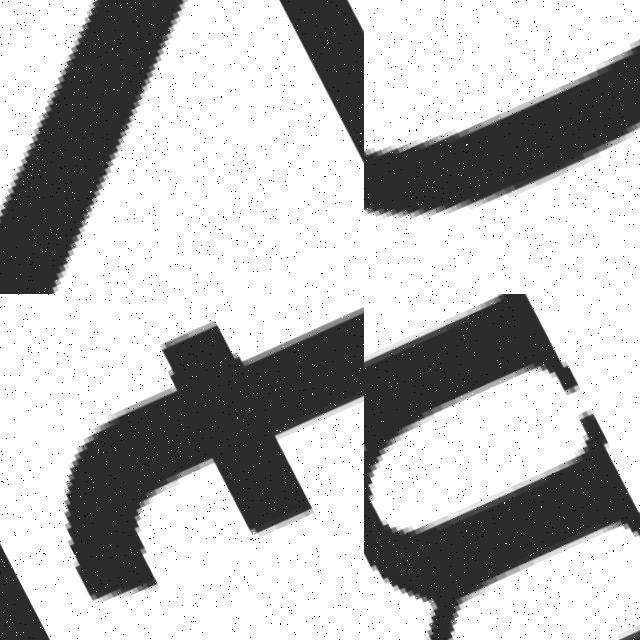0: (364, 0, 640, 293)
F: (0, 294, 364, 629)
M: (364, 294, 640, 640)
Z: (0, 0, 364, 294)
